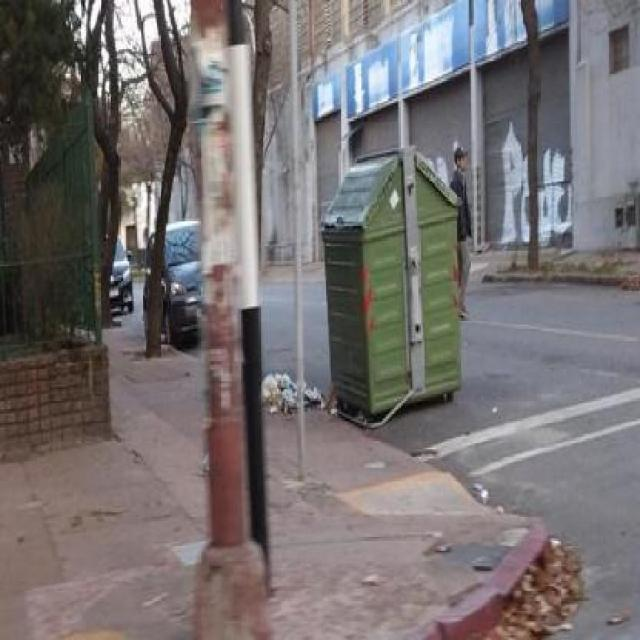garbage: (538, 531, 594, 636), (260, 368, 320, 422), (505, 562, 542, 638)
